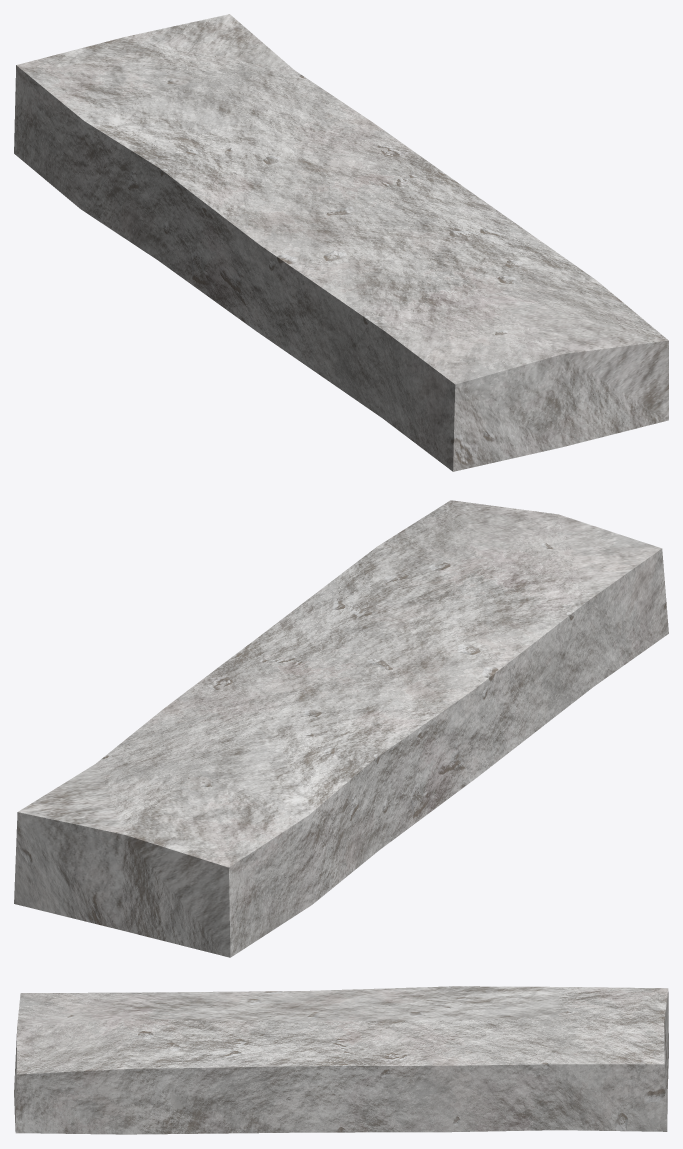
File: step1_LOD1.FBX
3 renders of one model, top to bottom at view 1: azimuth 30°, elevation 25°; view 2: azimuth 150°, elevation 25°; view 3: azimuth 270°, elevation 25°, orthographic. The views are drawn at different scales.
Visible parts, largest first — view 1: step1_LOD1; view 2: step1_LOD1; view 3: step1_LOD1.
Part boxes in pixels (x1,y1,x2,y2): step1_LOD1: (14,14,668,471); step1_LOD1: (14,500,668,957); step1_LOD1: (14,986,668,1134).
Bounding box in the file's own units: 52 × 21.94 × 172.
